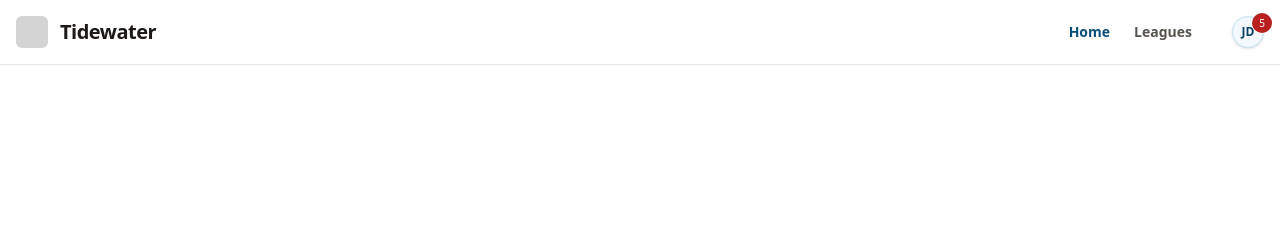
Test: Navbar Component › renders userMenuItems in the desktop dropdown when user is present
The image size is (1280, 244).
Click the button named "user menu": (1248, 32) left=1232, top=16, right=1264, bottom=48
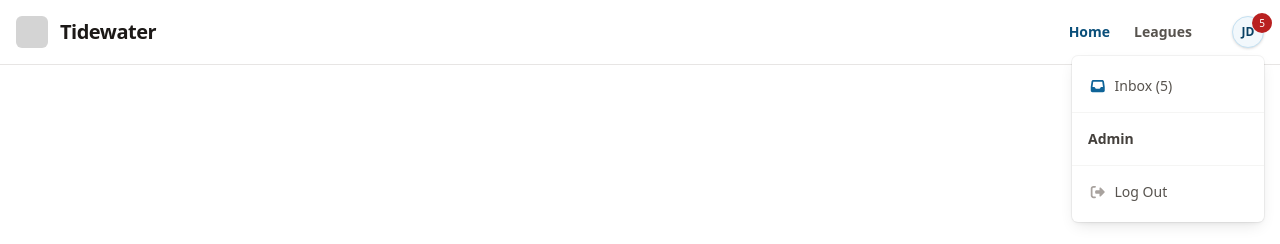
Now the text "Admin" is shown, box left=1088, top=129, right=1134, bottom=148
